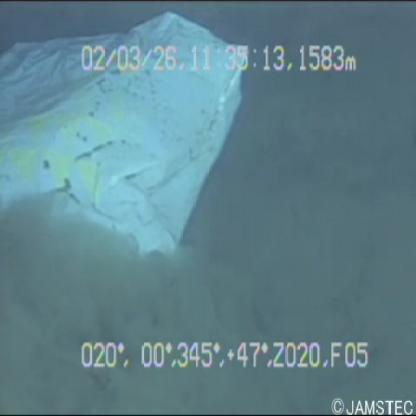Rác: (1, 8, 249, 267)
